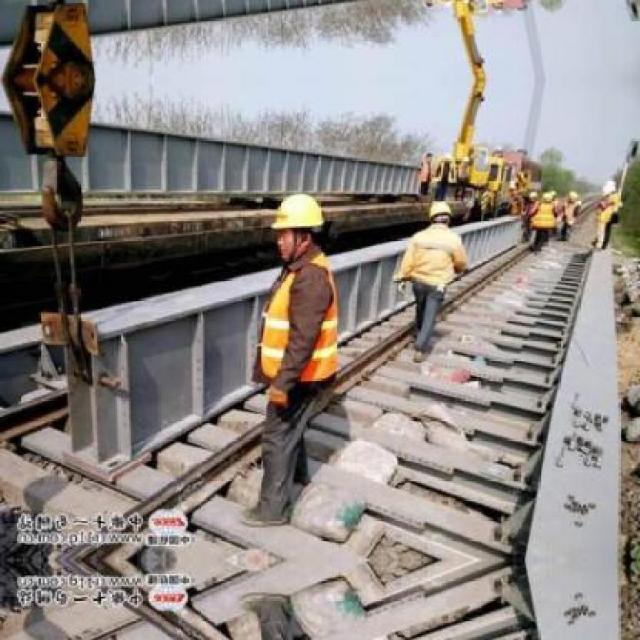Reflective-Jacket: (256, 254, 344, 397)
Safety-Helmet: (266, 186, 331, 237), (422, 196, 460, 224)
